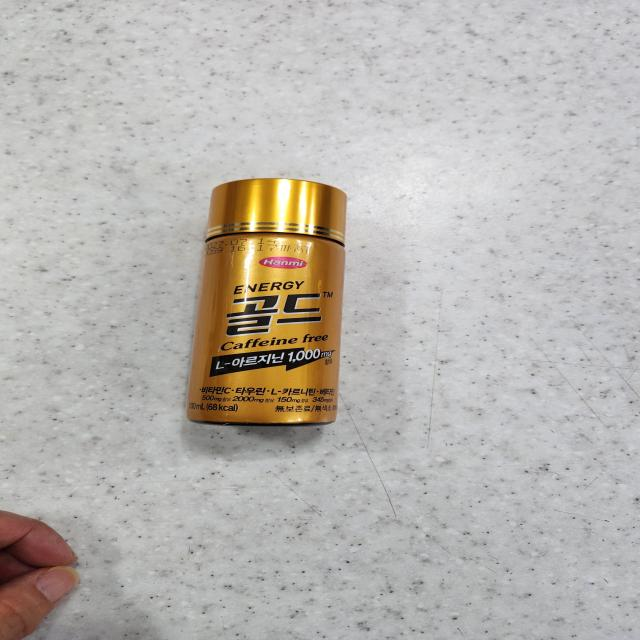box: (186, 179, 347, 424)
